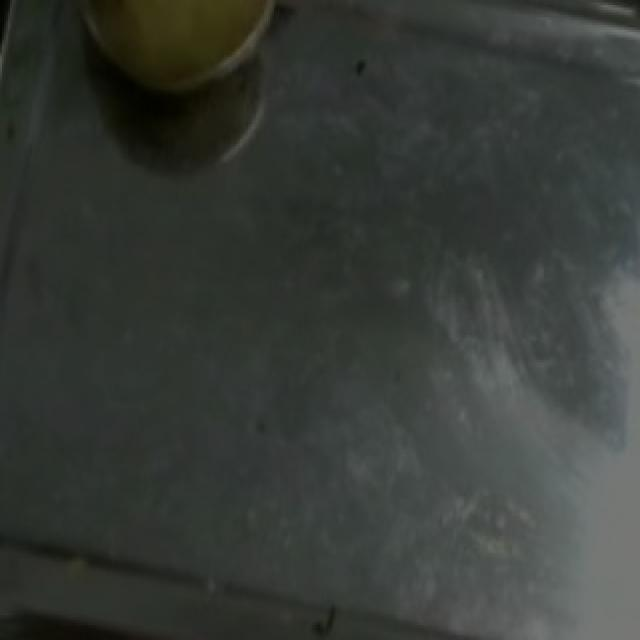fruit: (60, 0, 298, 112)
